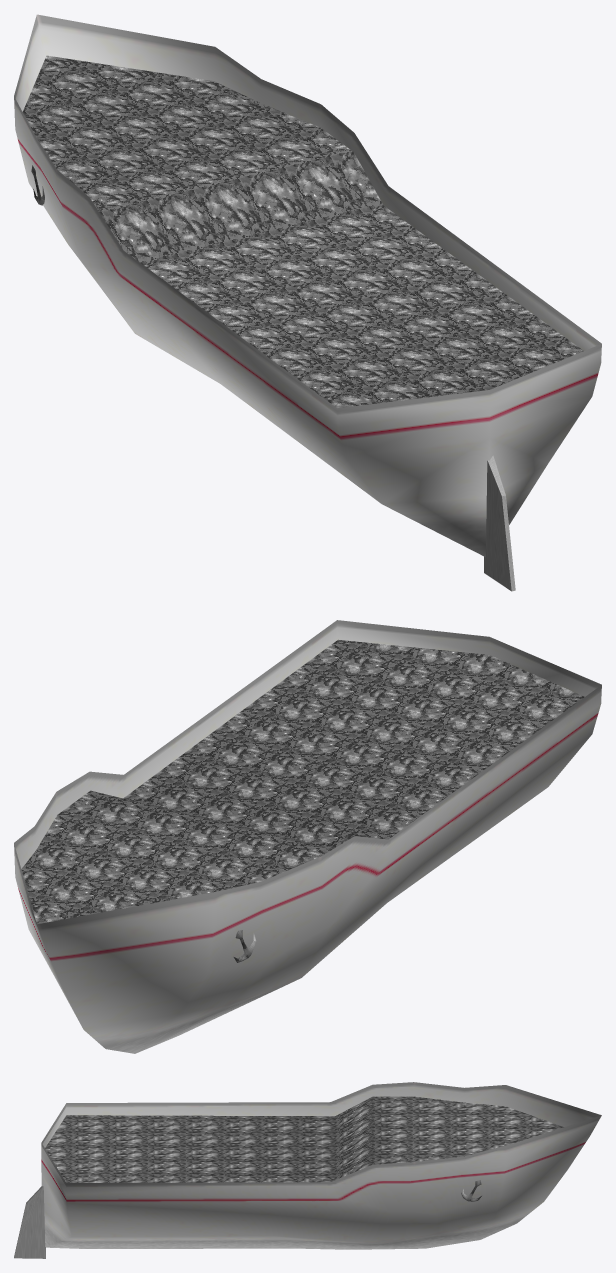
Rendered from yacht04.obj.
The picture shows the model from 3 angles, top to bottom: view 1: azimuth 30°, elevation 25°; view 2: azimuth 150°, elevation 25°; view 3: azimuth 270°, elevation 25°; orthographic projection. The views are drawn at different scales.
Parts seen in each view (by area): view 1: hullfloor, hull, Box07; view 2: hullfloor, hull; view 3: hull, hullfloor, Box07.
Boxes of the visible parts, box(x1,y1,x2,y2) form: hullfloor: box(23, 55, 583, 408); hull: box(14, 14, 601, 557); Box07: box(484, 455, 515, 591); hullfloor: box(21, 639, 584, 924); hull: box(14, 620, 601, 1053); hull: box(41, 1082, 601, 1249); hullfloor: box(45, 1096, 563, 1182); Box07: box(14, 1186, 45, 1258).
Bounding box in the file's own units: 50.51 × 41.79 × 157.
